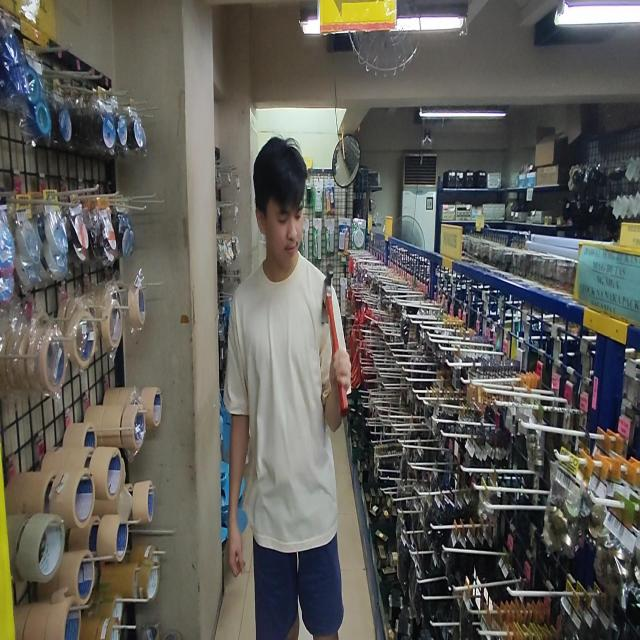hammer: (322, 270, 348, 416)
